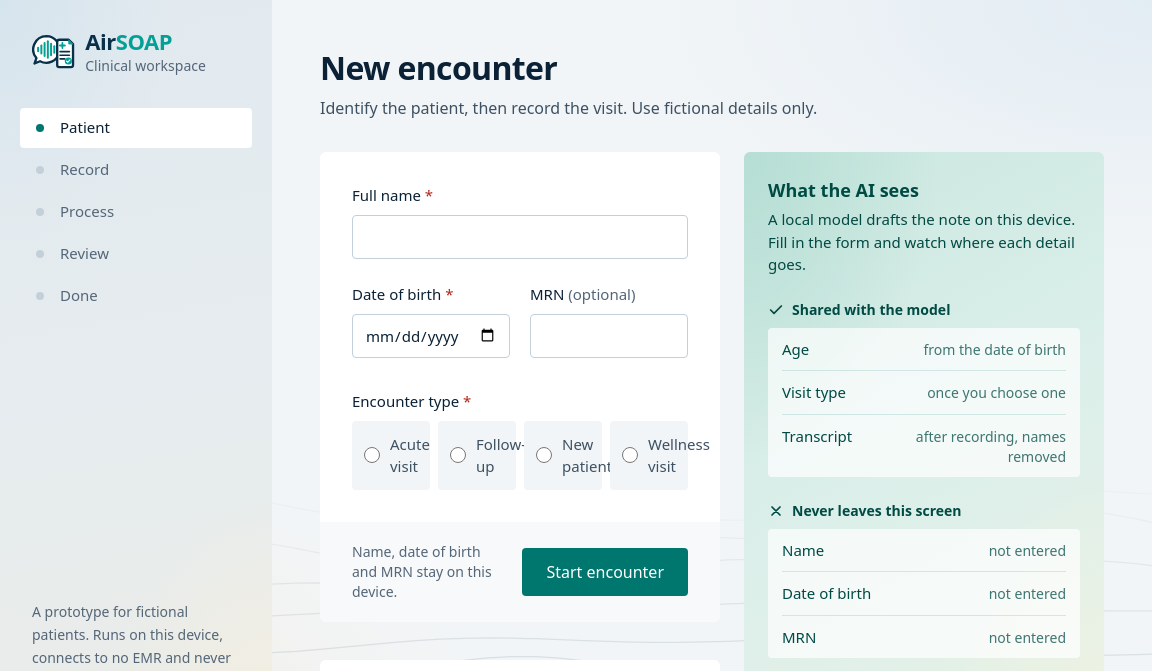
what the AI sees › shows each typed detail on the side it goes to
Check: the text "not entered" is shown 3 times, box 989,540 -> 1066,560; 989,584 -> 1066,603; 989,628 -> 1066,646
Step 1. Type "Jordan Testpatient" into the field labelled "Full name *" → (520, 237), box 352,214 -> 688,259
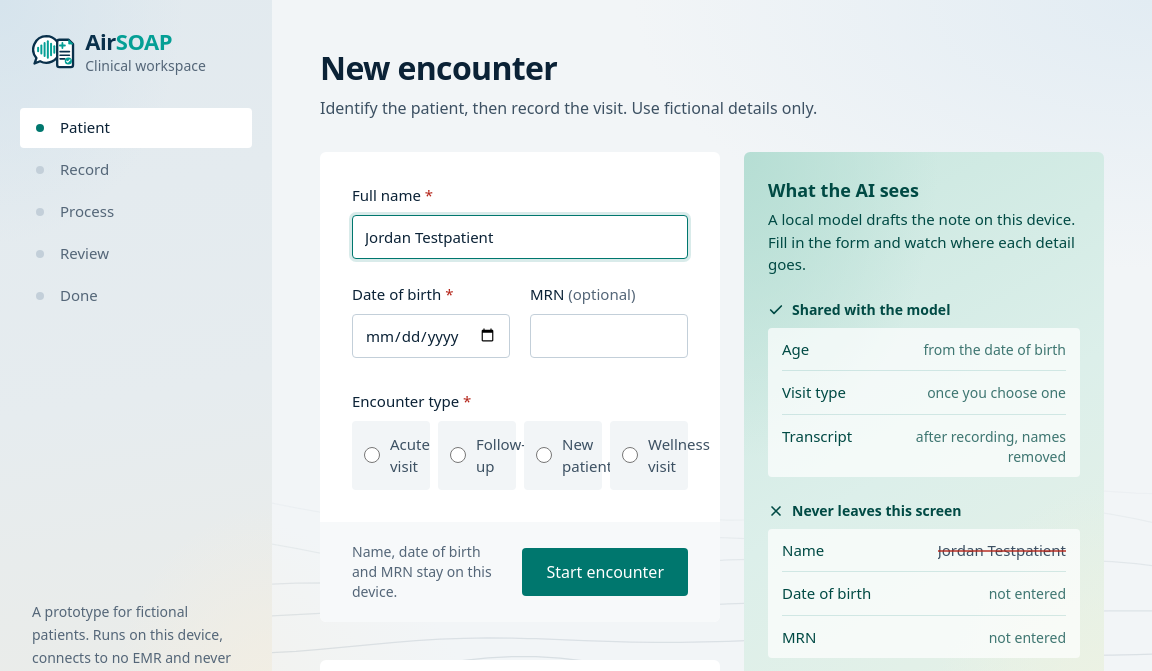
Step 2. Type "1991-04-12" into the date field labelled "Date of birth *" → (431, 336), box 352,314 -> 510,358
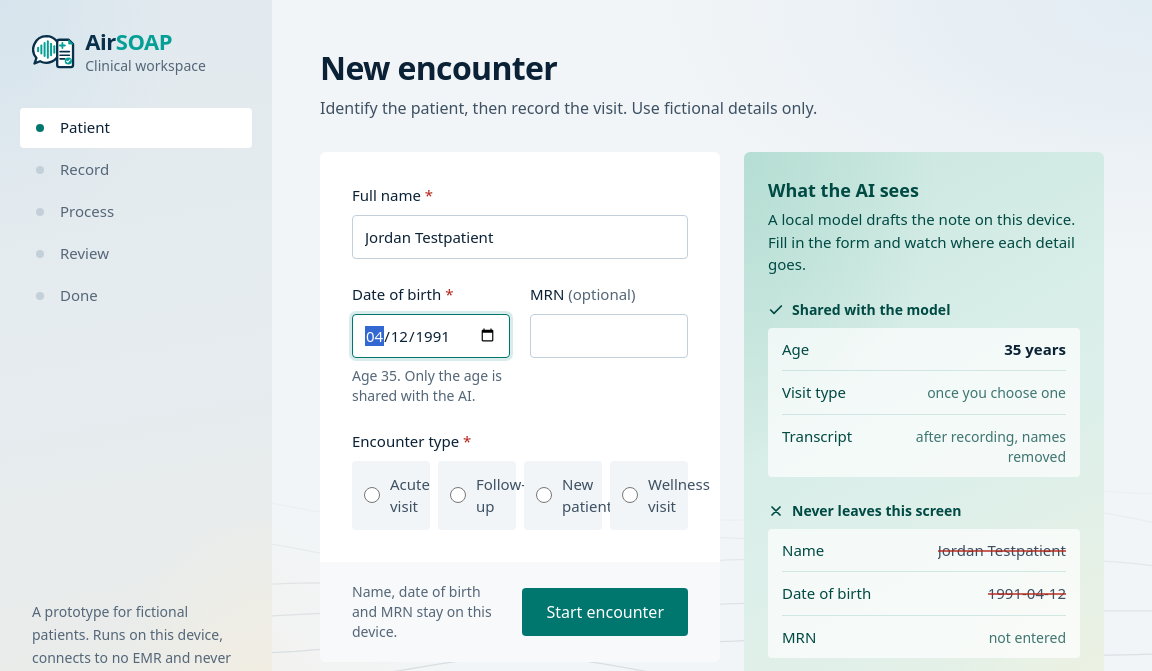
Step 3. Type "DEMO-000123" into the field labelled "MRN (optional)" → (609, 336), box 530,314 -> 688,358
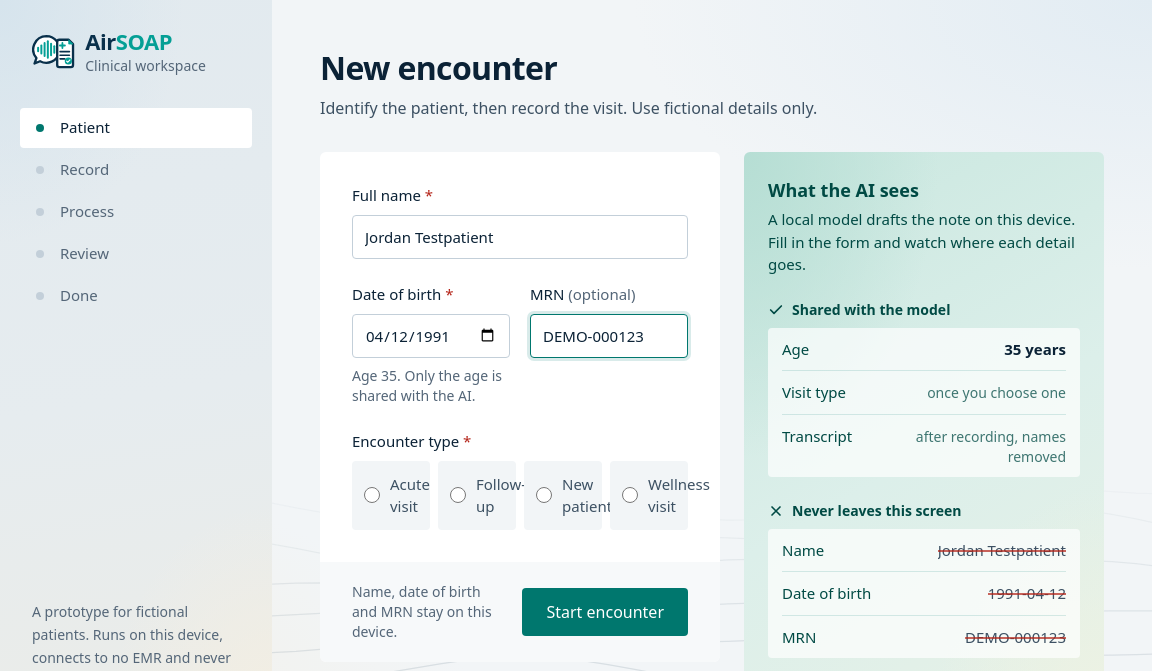
Step 4. Click the radio button labelled "Acute visit" → (372, 495), box 364,487 -> 380,503
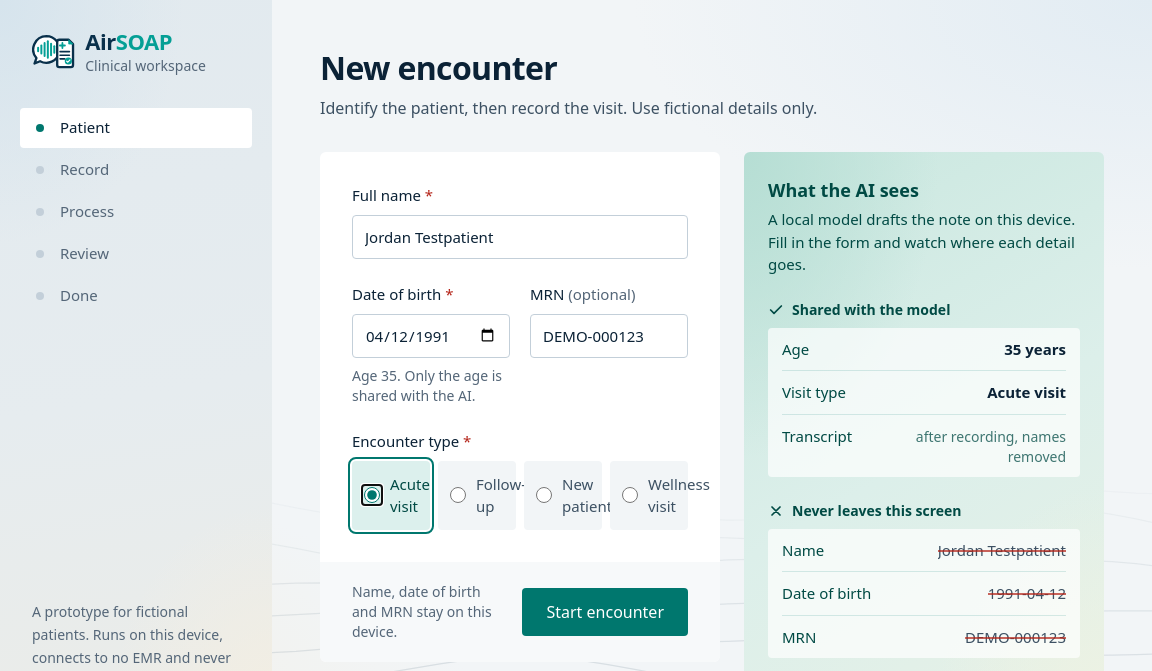
Check: the text "35 years" is shown, box 1004,338 -> 1066,360
Check: the text "Acute visit" is shown, box 987,381 -> 1066,404
